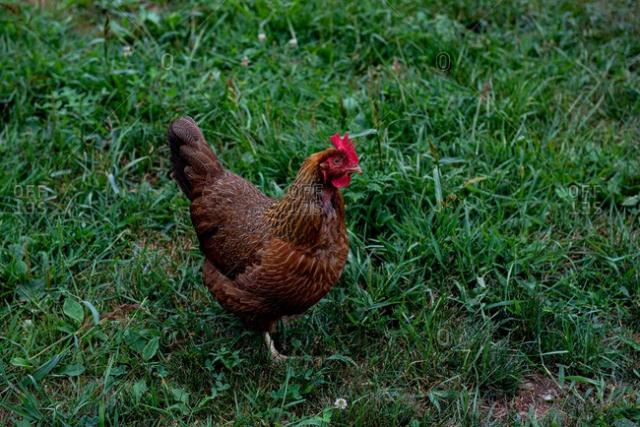Chicken: (169, 115, 363, 362)
